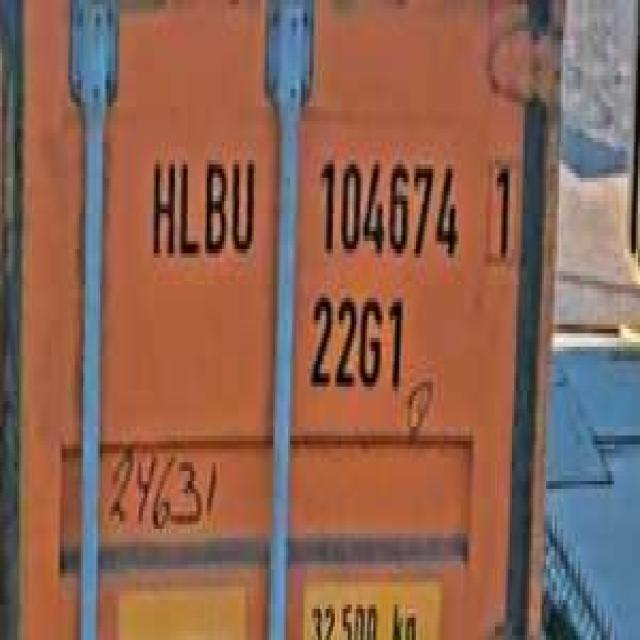dv: (484, 147, 518, 276)
owner: (145, 142, 258, 267)
serial: (314, 142, 463, 267)
size: (303, 280, 407, 404)
